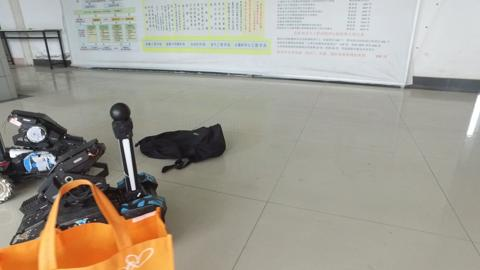chariot: (71, 106, 169, 216), (1, 107, 63, 200)
